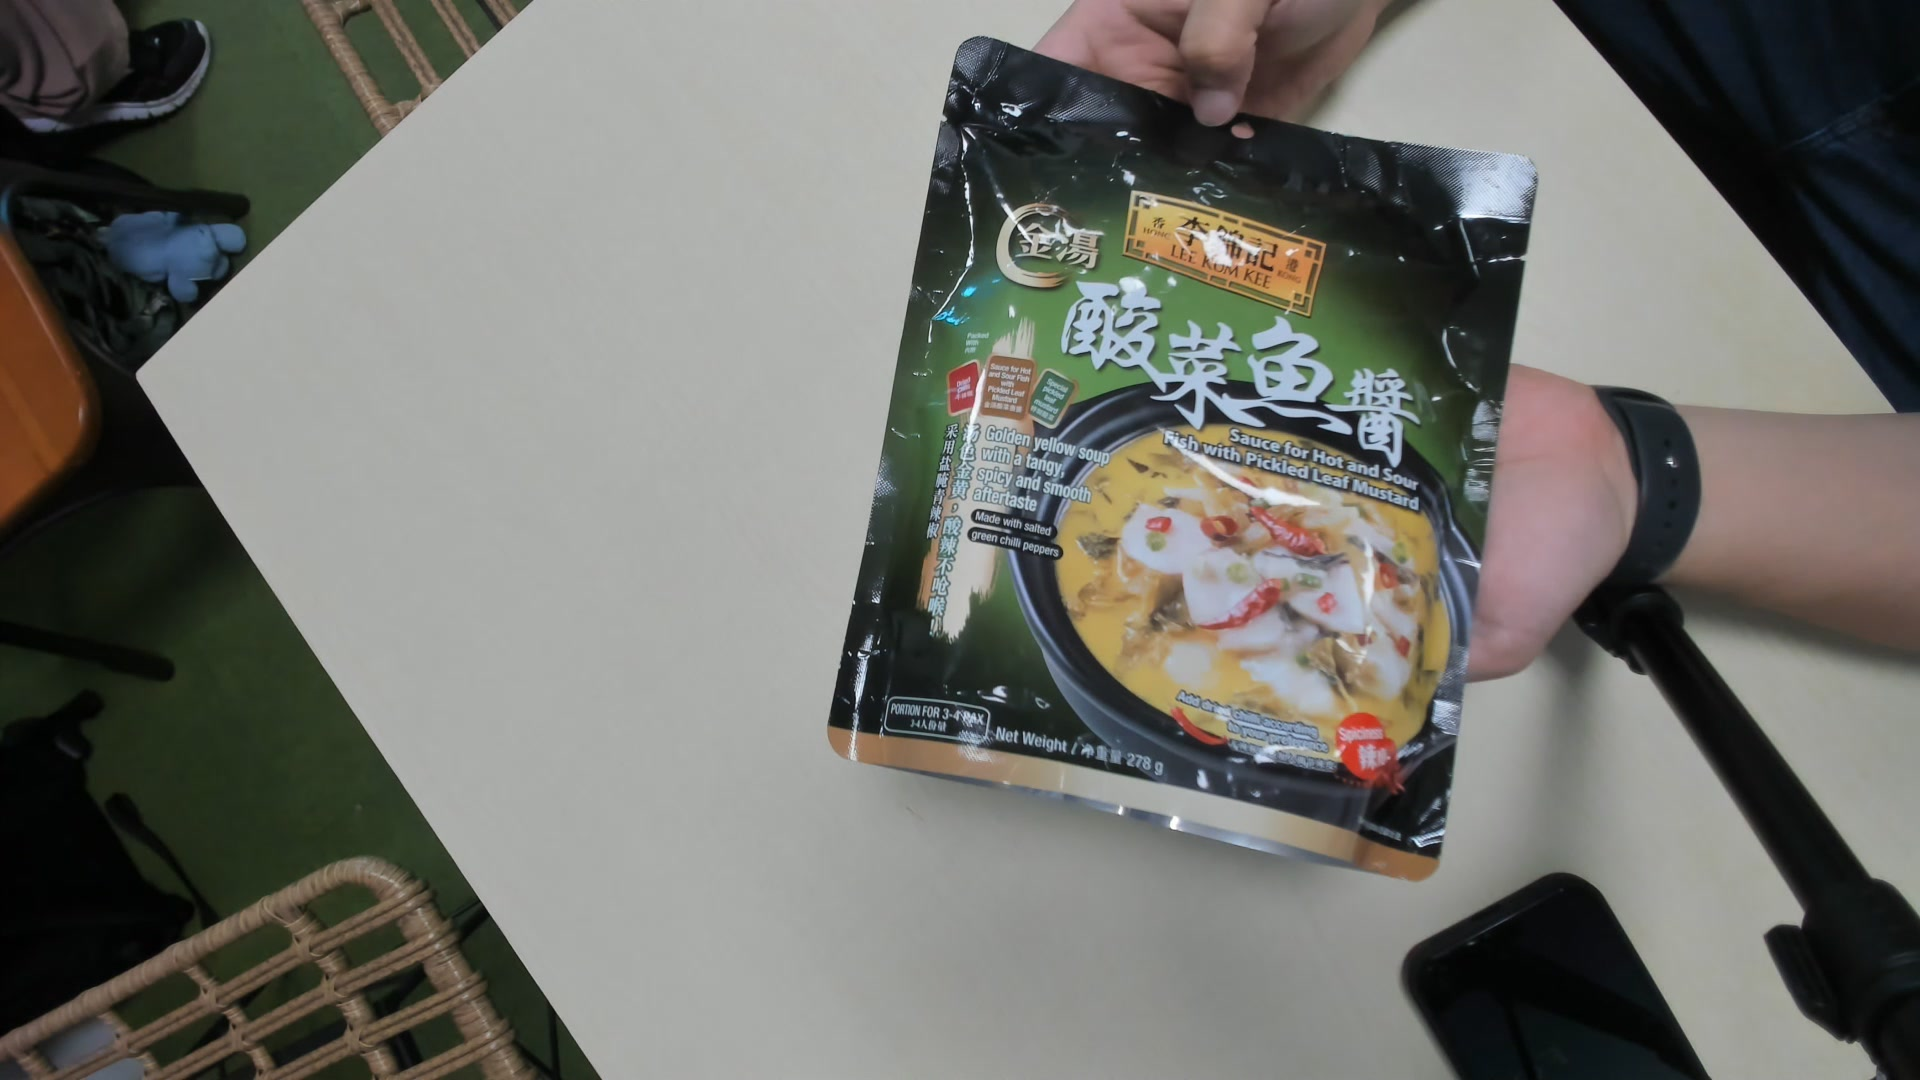OtherSauceDressing_200-299g_NonHalal_NonHealthy: (851, 33, 1528, 872)
